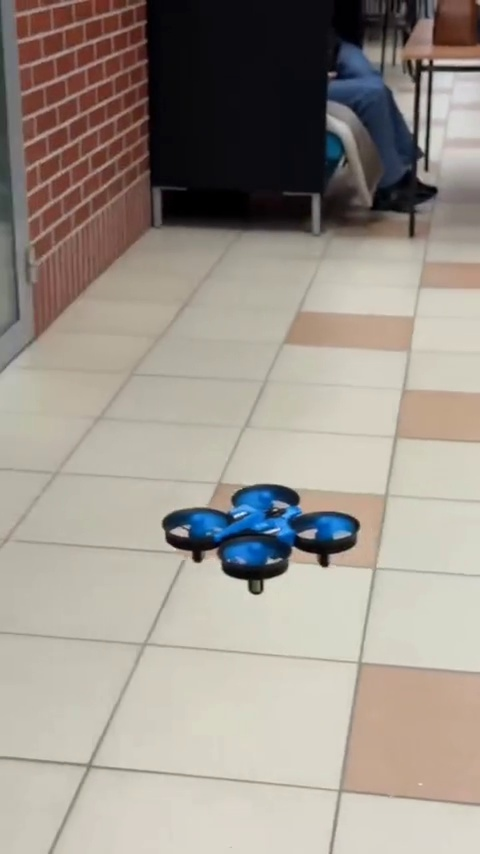drone: (159, 481, 366, 602)
